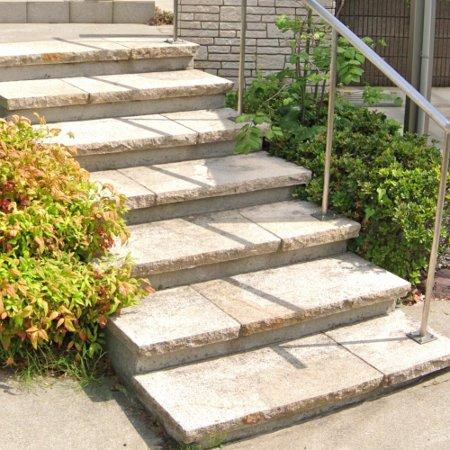stairs: (0, 38, 450, 446)
